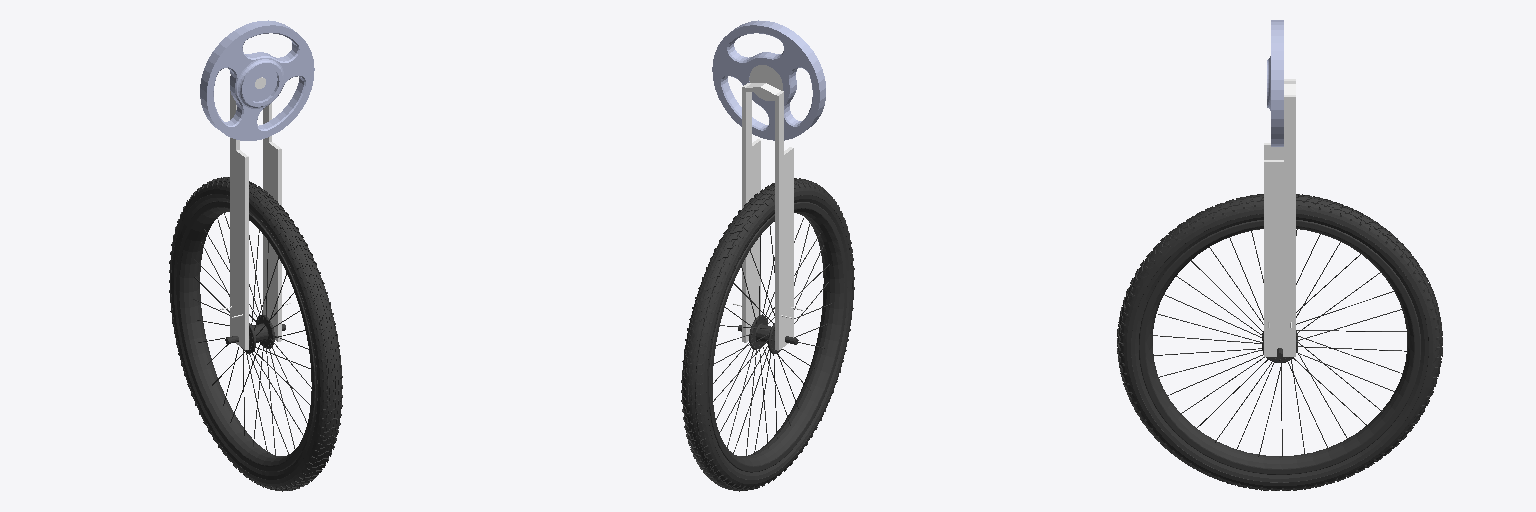
robot.urdf — mybot:
<?xml version="1.0" encoding="utf-8"?>
<!-- This URDF was automatically created by SolidWorks to URDF Exporter! Originally created by [author] ([email redacted]) 
     Commit Version: 1.6.0-4-g7f85cfe  Build Version: 1.6.7995.38578
     For more information, please see http://wiki.ros.org/sw_urdf_exporter -->
<robot
  name="mybot">
  <link
    name="base_link">
    <inertial>
      <origin
        xyz="-0.0381 0.34769 0.032884"
        rpy="0 0 0" />
      <mass
        value="0.93072" />
      <inertia
        ixx="0.041016"
        ixy="-1.4648E-18"
        ixz="6.1909E-20"
        iyy="0.0018491"
        iyz="0.00043466"
        izz="0.042192" />
    </inertial>
    <visual>
      <origin
        xyz="0 0 0"
        rpy="0 0 0" />
      <geometry>
        <mesh
          filename="package://mybot/meshes/base_link.STL" />
      </geometry>
      <material
        name="">
        <color
          rgba="1 1 1 1" />
      </material>
    </visual>
    <collision>
      <origin
        xyz="0 0 0"
        rpy="0 0 0" />
      <geometry>
        <mesh
          filename="package://mybot/meshes/base_link.STL" />
      </geometry>
    </collision>
  </link>
  <link
    name="fly_wheel_Link">
    <inertial>
      <origin
        xyz="1.1102E-16 0.016061 -1.6653E-16"
        rpy="0 0 0" />
      <mass
        value="1.1139" />
      <inertia
        ixx="0.0064385"
        ixy="3.4231E-18"
        ixz="6.8847E-18"
        iyy="0.012692"
        iyz="-4.2508E-19"
        izz="0.0064385" />
    </inertial>
    <visual>
      <origin
        xyz="0 0 0"
        rpy="0 0 0" />
      <geometry>
        <mesh
          filename="package://mybot/meshes/fly_wheel_Link.STL" />
      </geometry>
      <material
        name="">
        <color
          rgba="0.79216 0.81961 0.93333 1" />
      </material>
    </visual>
    <collision>
      <origin
        xyz="0 0 0"
        rpy="0 0 0" />
      <geometry>
        <mesh
          filename="package://mybot/meshes/fly_wheel_Link.STL" />
      </geometry>
    </collision>
  </link>
  <joint
    name="fly_wheel_joint"
    type="continuous">
    <origin
      xyz="-0.0381 -0.026125 0.65534"
      rpy="0 1.5018 -3.1416" />
    <parent
      link="base_link" />
    <child
      link="fly_wheel_Link" />
    <axis
      xyz="0 1 0" />
  </joint>
  <link
    name="wheel_link">
    <inertial>
      <origin
        xyz="-1.4229E-06 -1.3336E-05 -0.038081"
        rpy="0 0 0" />
      <mass
        value="2.7797" />
      <inertia
        ixx="0.13005"
        ixy="8.4658E-07"
        ixz="-7.4352E-09"
        iyy="0.13006"
        iyz="-7.7781E-09"
        izz="0.25812" />
    </inertial>
    <visual>
      <origin
        xyz="0 0 0"
        rpy="0 0 0" />
      <geometry>
        <mesh
          filename="package://mybot/meshes/wheel_link.STL" />
      </geometry>
      <material
        name="">
        <color
          rgba="0.29412 0.29412 0.29412 1" />
      </material>
    </visual>
    <collision>
      <origin
        xyz="0 0 0"
        rpy="0 0 0" />
      <geometry>
        <mesh
          filename="package://mybot/meshes/wheel_link.STL" />
      </geometry>
    </collision>
  </link>
  <joint
    name="wheel_joint"
    type="continuous">
    <origin
      xyz="0 -0.035 0.01524"
      rpy="1.5708 0.67273 1.5708" />
    <parent
      link="base_link" />
    <child
      link="wheel_link" />
    <axis
      xyz="0 0 1" />
  </joint>
</robot>

--- Render facts (derived) ---
The picture shows the robot from 3 angles, left to right: view 1: azimuth 30°, elevation 25°; view 2: azimuth 150°, elevation 25°; view 3: azimuth 270°, elevation 25°; orthographic projection.
Model mybot with 3 links and 2 joints (2 continuous), rooted at base_link, posed every joint at zero.
Links seen in each view (by area): view 1: wheel_link, fly_wheel_Link, base_link; view 2: wheel_link, base_link, fly_wheel_Link; view 3: wheel_link, base_link, fly_wheel_Link.
Link boxes in pixels (x1,y1,x2,y2): wheel_link: (169, 177, 342, 491); fly_wheel_Link: (200, 20, 314, 140); base_link: (220, 77, 290, 349); wheel_link: (681, 178, 854, 491); base_link: (733, 65, 802, 350); fly_wheel_Link: (712, 20, 825, 140); wheel_link: (1117, 194, 1442, 490); base_link: (1264, 79, 1295, 356); fly_wheel_Link: (1267, 20, 1283, 146).
Bounding box of the posed robot: 0.2847 × 0.733 × 1.15 m (x, y, z).
3 mesh visuals loaded from 3 distinct referenced files (3 binary STL).